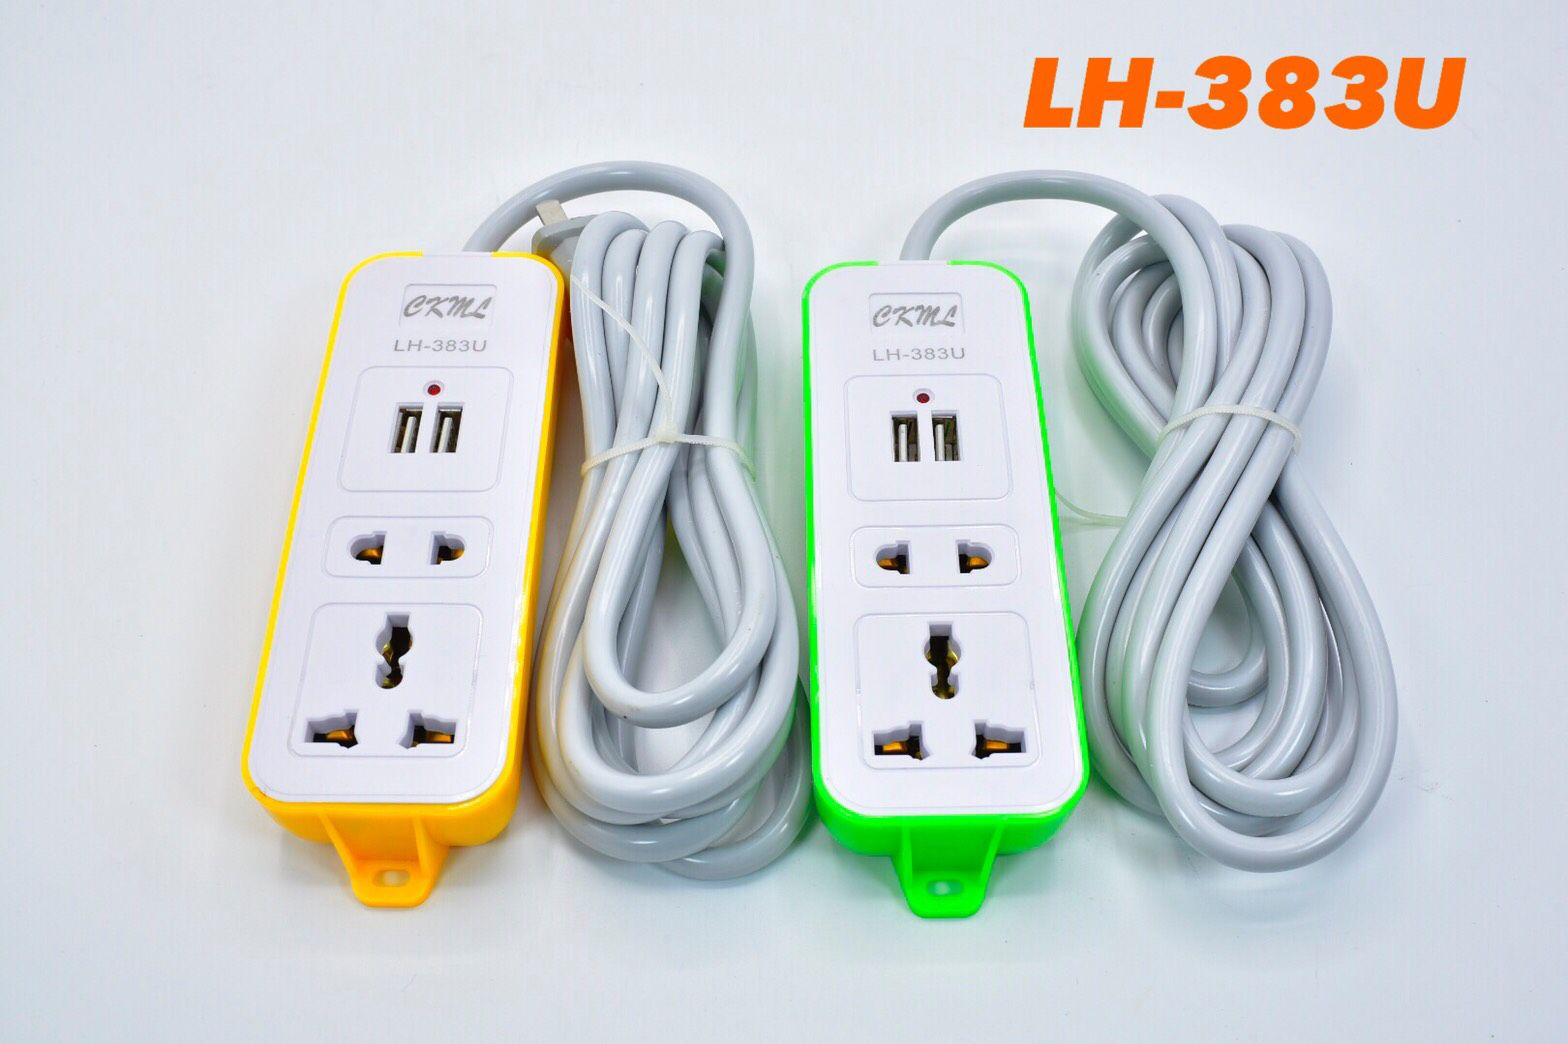Three_eye_plug: (235, 247, 594, 916), (778, 237, 1103, 927)
